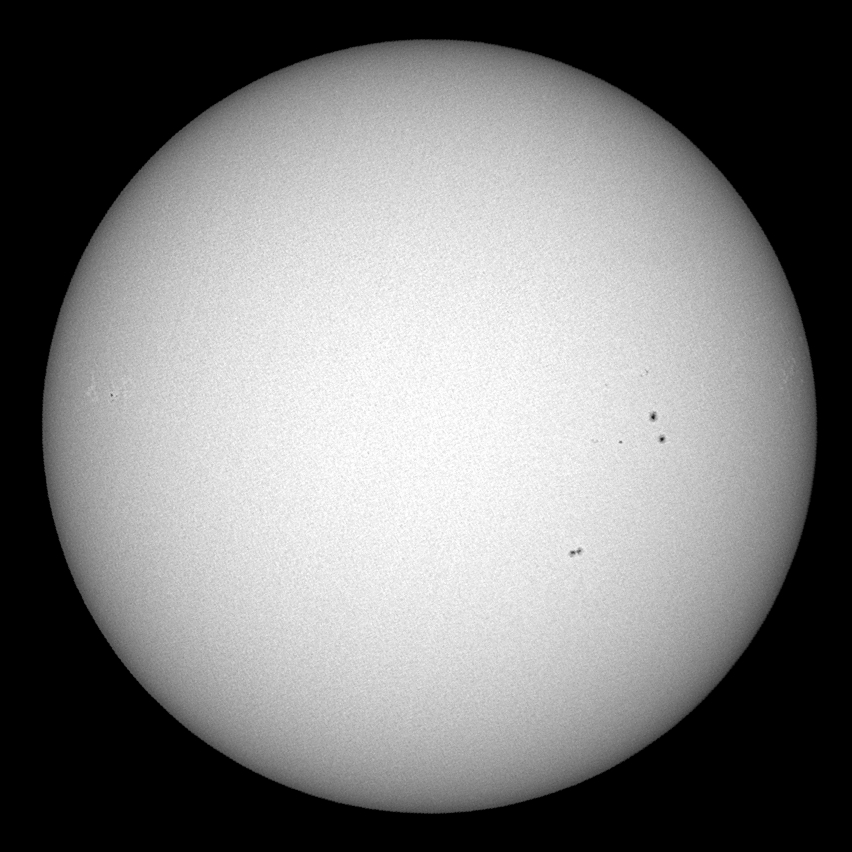sunspot: (565, 543, 586, 560), (655, 431, 671, 447), (645, 409, 662, 423)
